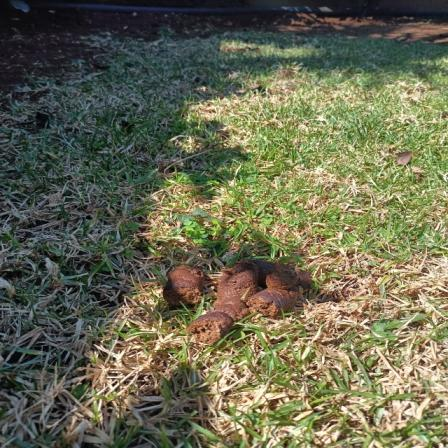dog-poop: (160, 247, 320, 341)
